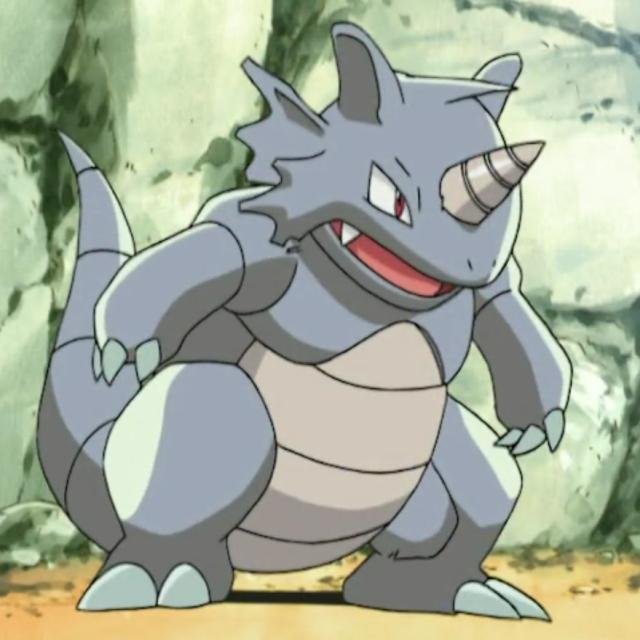Rhydon: (125, 52, 549, 613)
